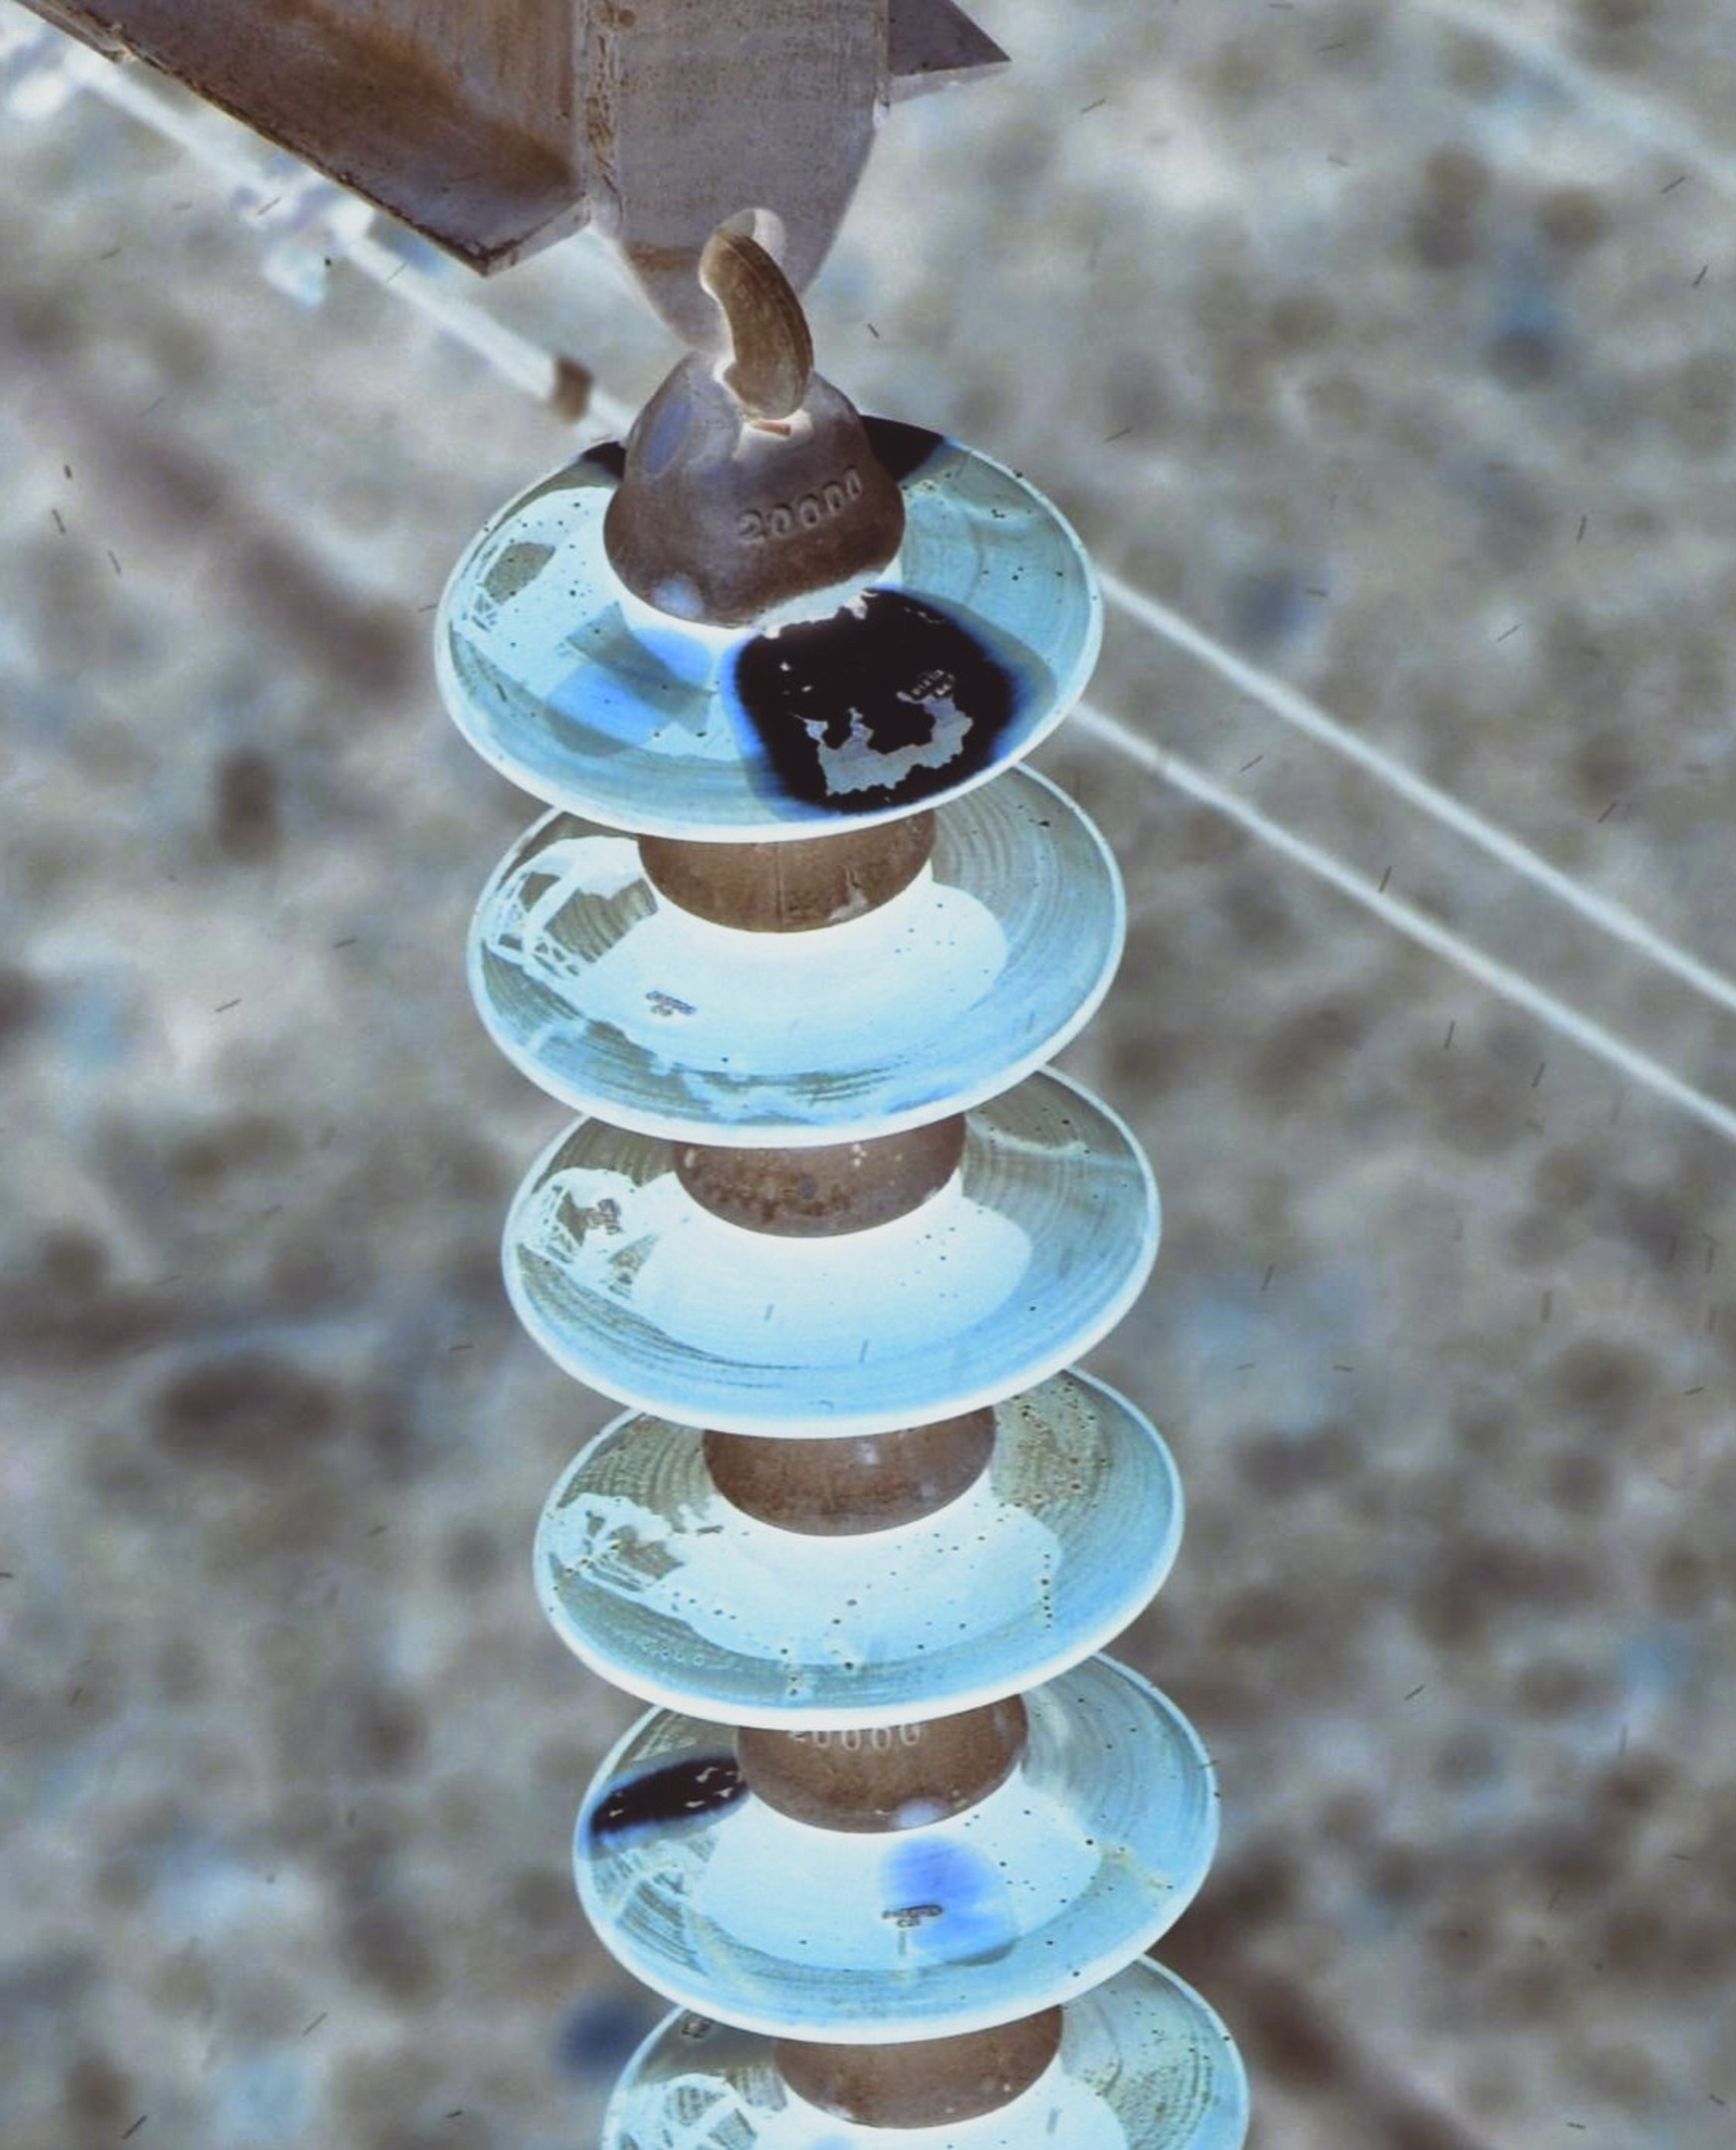Insulator flashover: (413, 375, 1132, 854)
